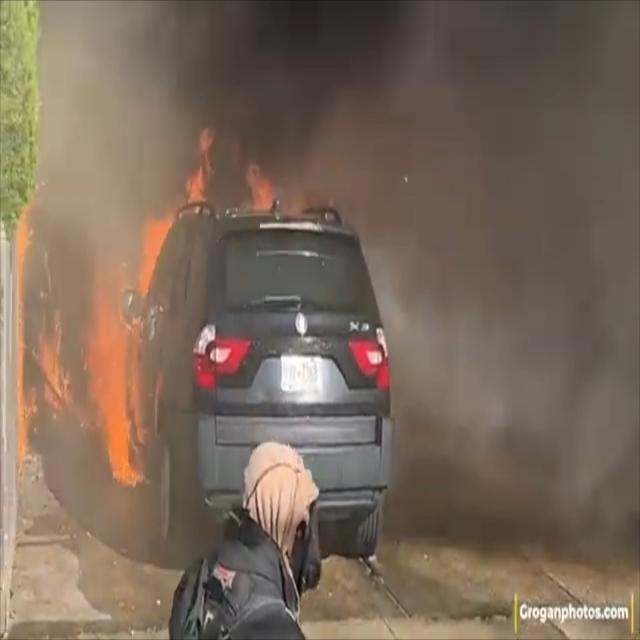fire: (10, 185, 154, 494), (159, 140, 316, 214)
